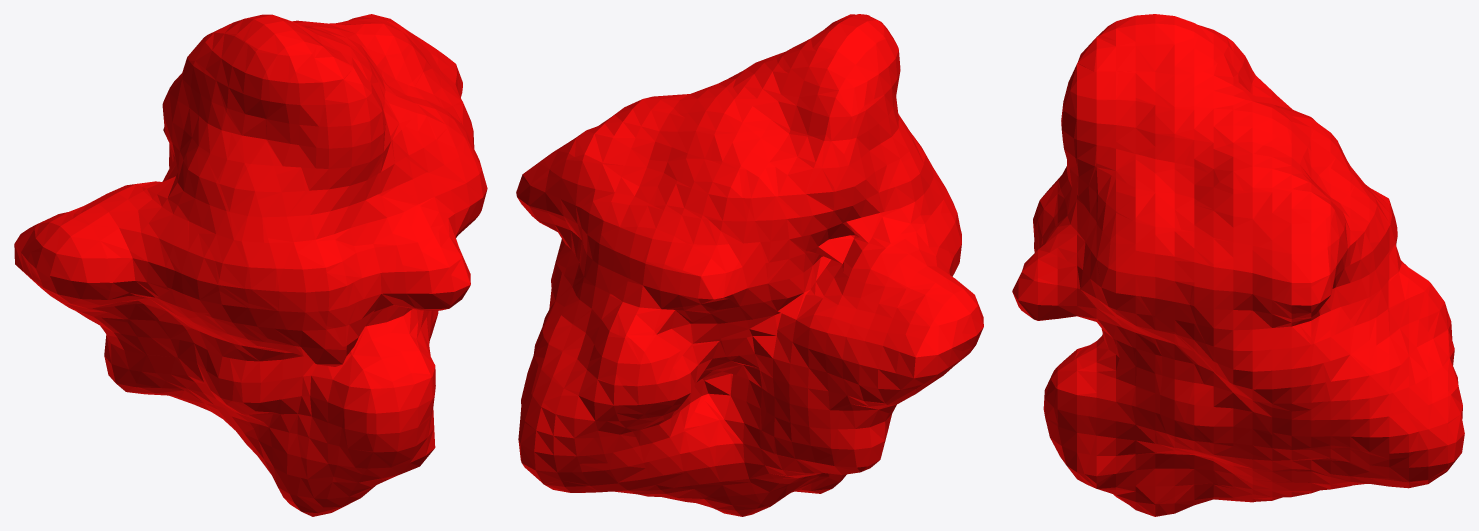
Rendered from plsC_coarse.dae.
The picture shows the model from 3 angles, left to right: view 1: azimuth 30°, elevation 25°; view 2: azimuth 150°, elevation 25°; view 3: azimuth 270°, elevation 25°; orthographic projection. The views are drawn at different scales.
Visible parts, largest first — view 1: plsC; view 2: plsC; view 3: plsC.
Boxes of the visible parts, x1,y1,x2,y2 form: plsC: (14,14,487,516); plsC: (516,14,983,516); plsC: (1012,14,1464,516).
Size of the model in its own units: 55.71 by 58.95 by 51.85.
